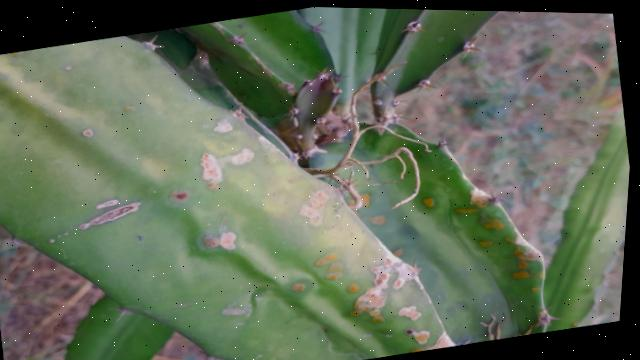stemcanker: (166, 228, 462, 347), (172, 144, 334, 225)
